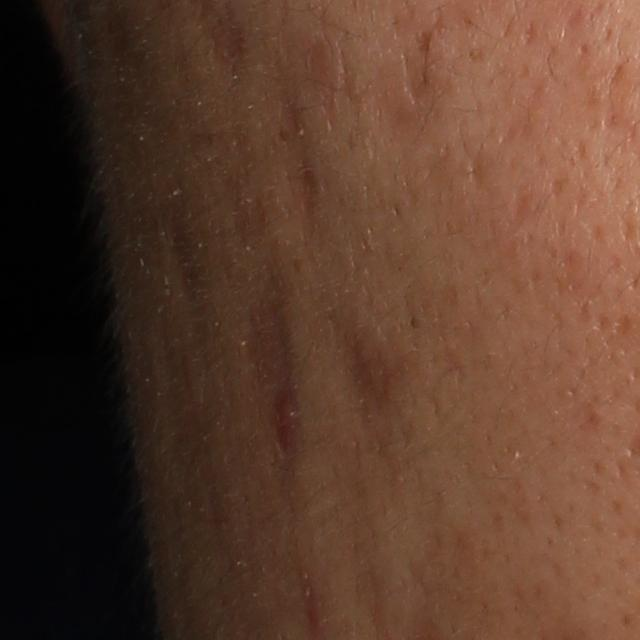atrophic_scar: (243, 265, 303, 465), (329, 322, 392, 417), (167, 209, 205, 319), (397, 29, 432, 105), (291, 155, 324, 228), (461, 146, 490, 191)
